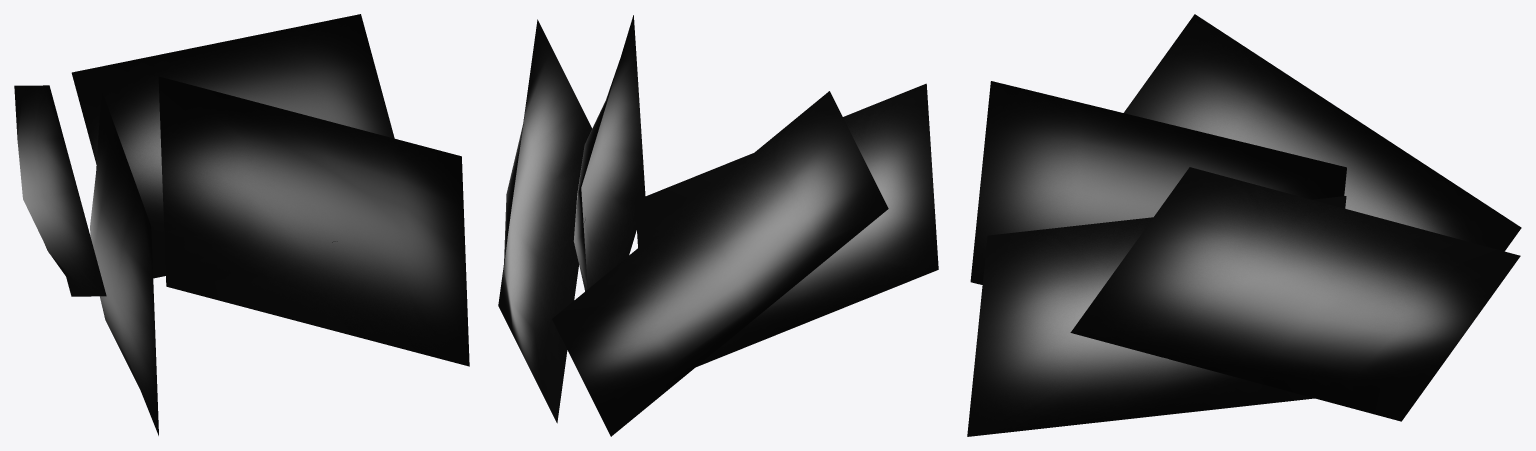
The model's file is YAN.FBX.
3 renders of one model, left to right at view 1: azimuth 30°, elevation 25°; view 2: azimuth 150°, elevation 25°; view 3: azimuth 270°, elevation 25°, orthographic. The views are drawn at different scales.
Parts seen in each view (by area): view 1: Plane001; view 2: Plane001; view 3: Plane001.
Part boxes in pixels (bbox=[...]): Plane001: bbox=[14, 14, 469, 435]; Plane001: bbox=[498, 15, 938, 436]; Plane001: bbox=[967, 14, 1521, 436].
Bounding box in the file's own units: 58.72 × 57.34 × 90.47.
